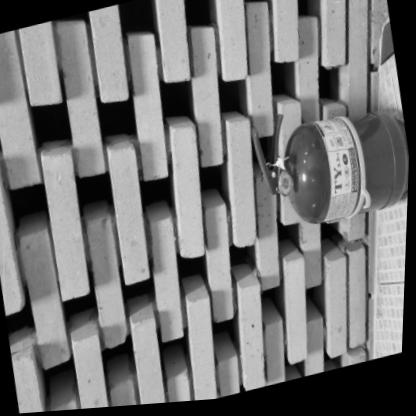FE: (245, 93, 413, 245)
